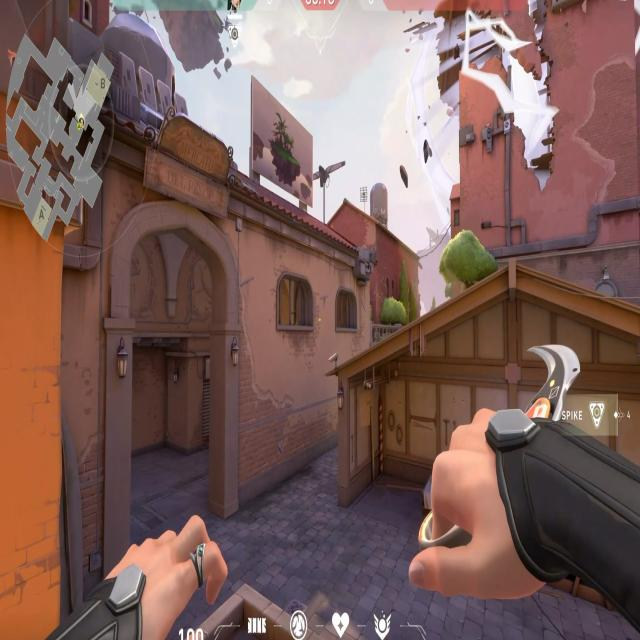B_Garage_Left: (330, 368, 453, 514)
Throwables: (269, 258, 321, 346), (332, 286, 361, 337)
